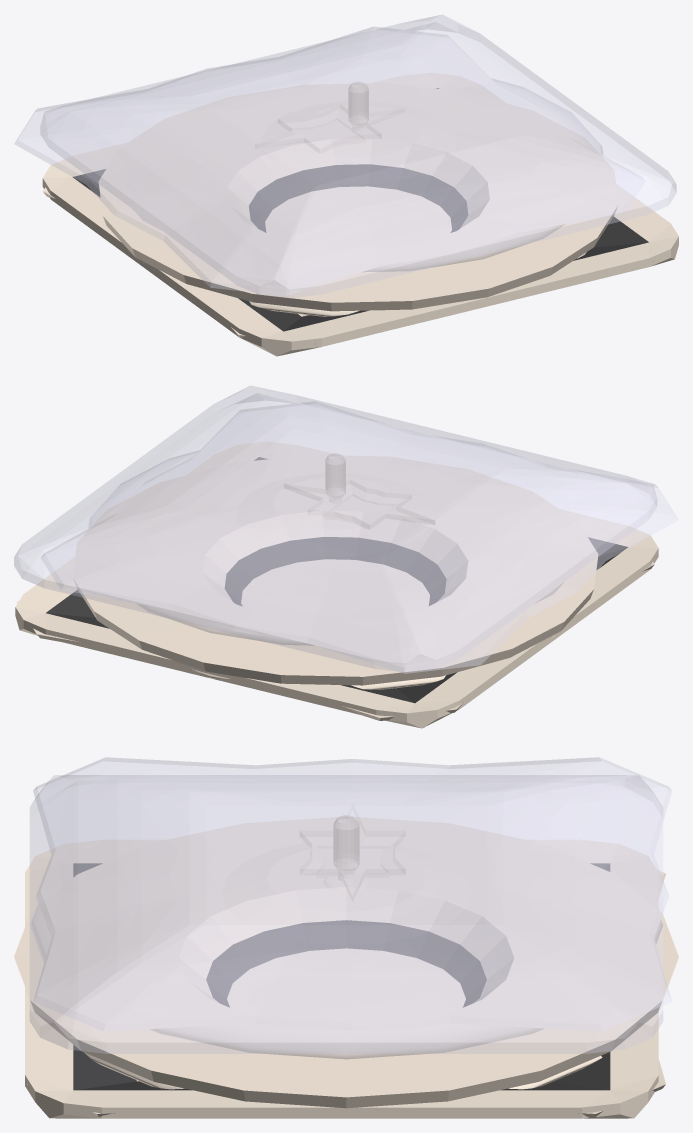
The model's file is Plate.glb.
The picture shows the model from 3 angles, top to bottom: view 1: azimuth 30°, elevation 25°; view 2: azimuth 150°, elevation 25°; view 3: azimuth 270°, elevation 25°; orthographic projection. The views are drawn at different scales.
Parts seen in each view (by area): view 1: PlateSquare.001, PlateStar.001, PlateUFO, PlateSquare, PlateCircle, PlateCircle.001, PlateStar, PlateUFO.001; view 2: PlateSquare.001, PlateStar.001, PlateUFO, PlateSquare, PlateStar, PlateCircle, PlateCircle.001, PlateUFO.001; view 3: PlateSquare.001, PlateUFO, PlateStar.001, PlateSquare, PlateStar, PlateCircle.001, PlateCircle, PlateUFO.001.
Boxes of the visible parts, box(x1,y1,x2,y2) form: PlateSquare.001: box(40, 14, 676, 297); PlateStar.001: box(14, 26, 644, 295); PlateUFO: box(99, 83, 618, 311); PlateSquare: box(42, 73, 678, 356); PlateCircle: box(142, 186, 586, 316); PlateCircle.001: box(133, 78, 602, 271); PlateStar: box(43, 186, 653, 344); PlateUFO.001: box(348, 82, 368, 124); PlateSquare.001: box(14, 385, 656, 671); PlateStar.001: box(41, 401, 678, 673); PlateUFO: box(73, 455, 597, 685); PlateSquare: box(15, 442, 658, 728); PlateStar: box(16, 560, 654, 720); PlateCircle: box(105, 559, 553, 689); PlateCircle.001: box(88, 451, 562, 645); PlateUFO.001: box(325, 453, 345, 496); PlateSquare.001: box(30, 775, 662, 1053); PlateUFO: box(14, 816, 678, 1108); PlateStar.001: box(33, 757, 671, 1030); PlateSquare: box(25, 840, 658, 1118); PlateStar: box(27, 870, 665, 1117); PlateCircle.001: box(30, 904, 662, 1058); PlateCircle: box(83, 948, 602, 1089); PlateUFO.001: box(333, 815, 359, 924).
Bounding box in the file's own units: 1.09 × 0.3751 × 1.05.
